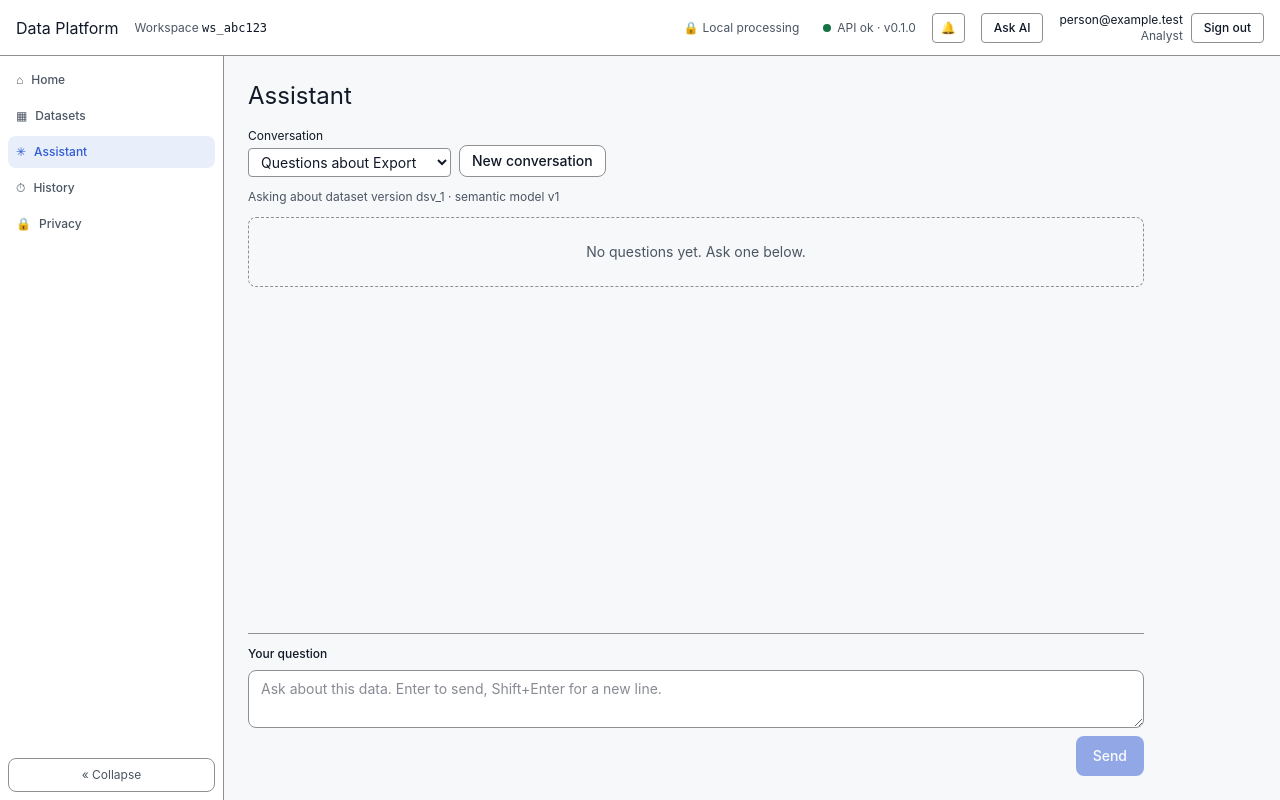
AI chat › withholds numbers when the answer requires review
This screenshot has width=1280, height=800.
Step 1. Type "How did it change?" into the text box labelled "Your question" → (696, 699), box [248,670,1144,728]
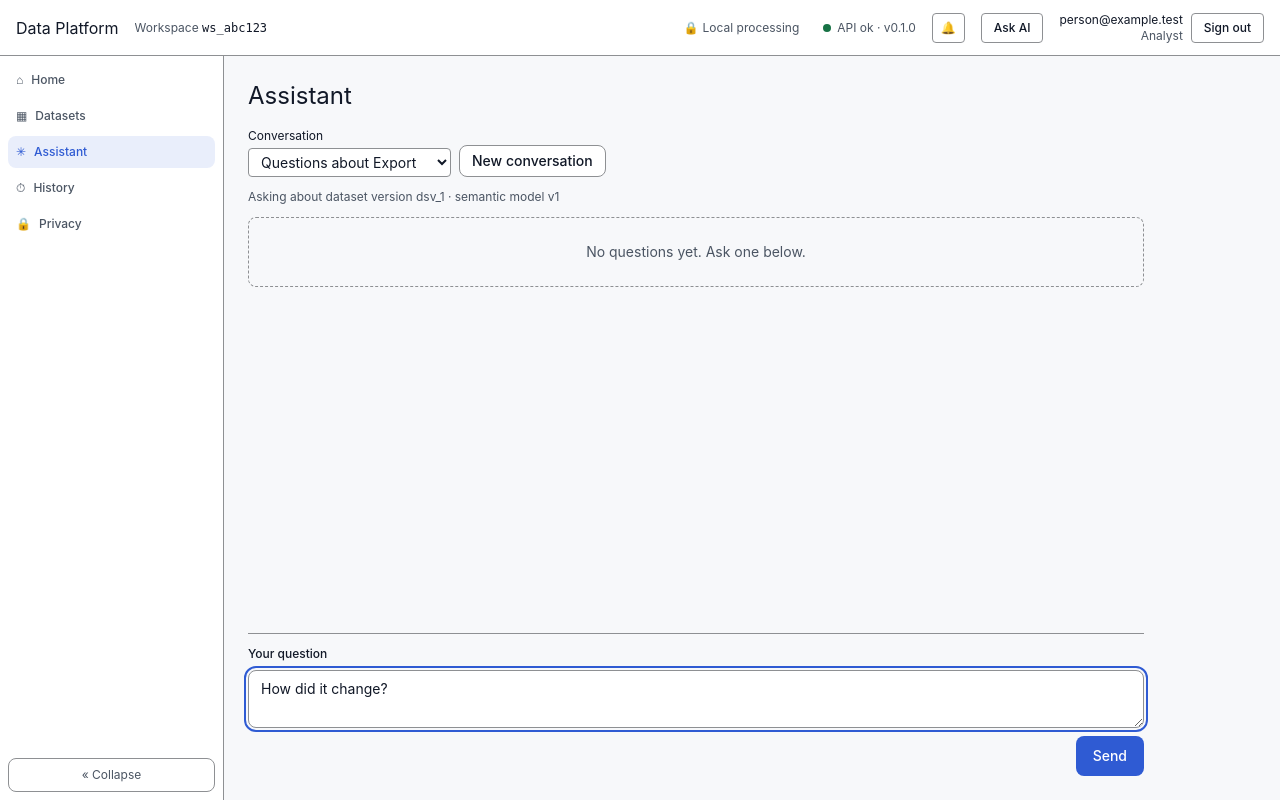
Step 2. Click the button "Send" → (1110, 756), box [1076,736,1144,776]
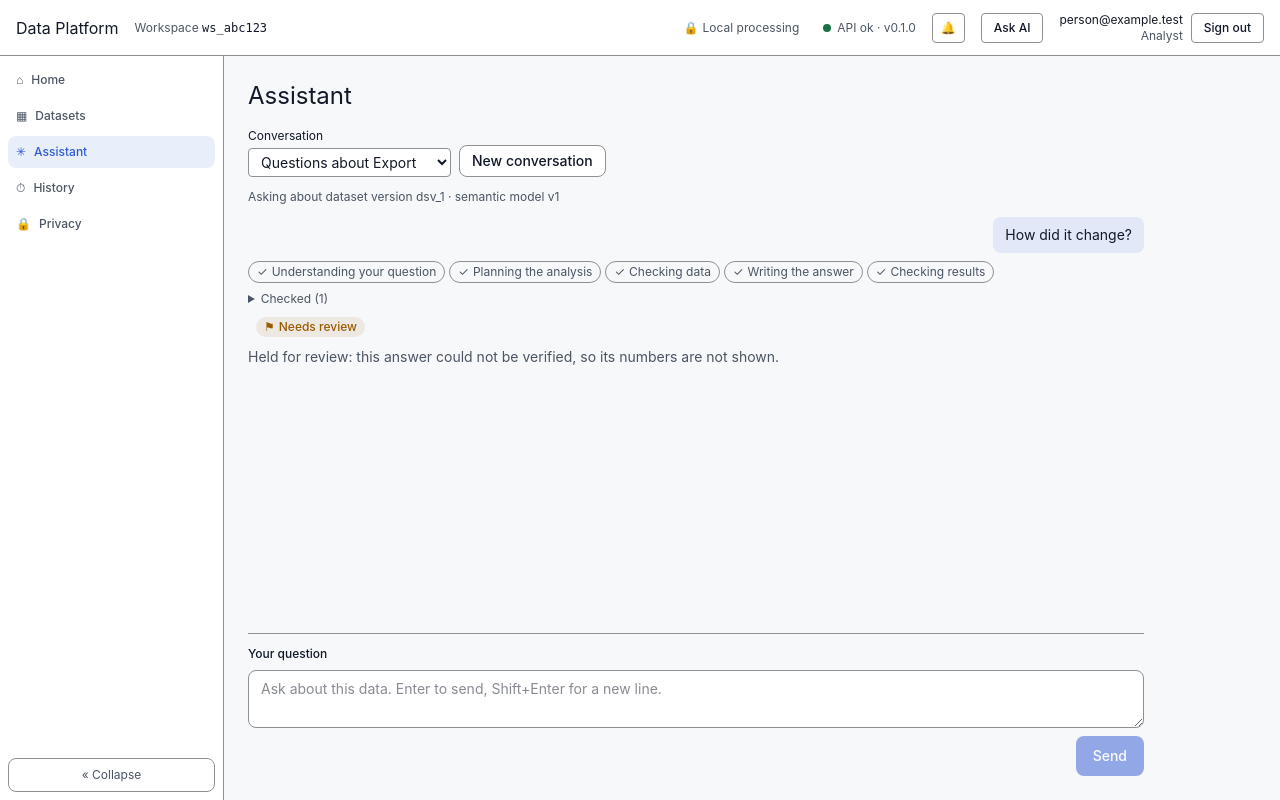
Now the text "Needs review" is shown, box [279,319,357,334]
Now the text "Held for review" is shown, box [248,348,779,365]
